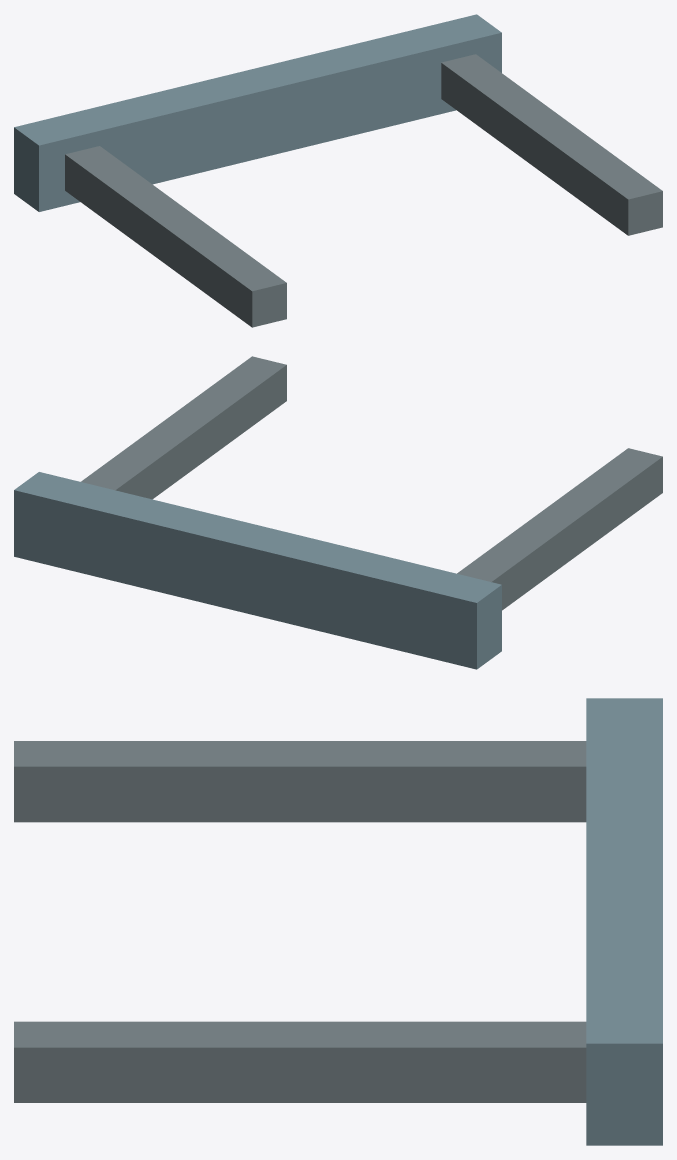
File: branch-gate-eco.glb
3 views of the same model, one above another, from view 1: azimuth 30°, elevation 25°; view 2: azimuth 150°, elevation 25°; view 3: azimuth 270°, elevation 25° (orthographic). The views are drawn at different scales.
Parts seen in each view (by area): view 1: base, post-0.65, post--0.65; view 2: base, post--0.65, post-0.65; view 3: post--0.65, post-0.65, base.
Part boxes in pixels (box(x1,y1,x2,y2)): base: box(14, 14, 501, 211); post-0.65: box(441, 54, 662, 235); post--0.65: box(65, 146, 286, 327); base: box(14, 472, 501, 669); post--0.65: box(457, 448, 662, 610); post-0.65: box(81, 356, 286, 499); post--0.65: box(14, 741, 586, 822); post-0.65: box(14, 1021, 586, 1102); base: box(586, 698, 662, 1145).
Size of the model in its own units: 1.6 by 0.22 by 1.27.
